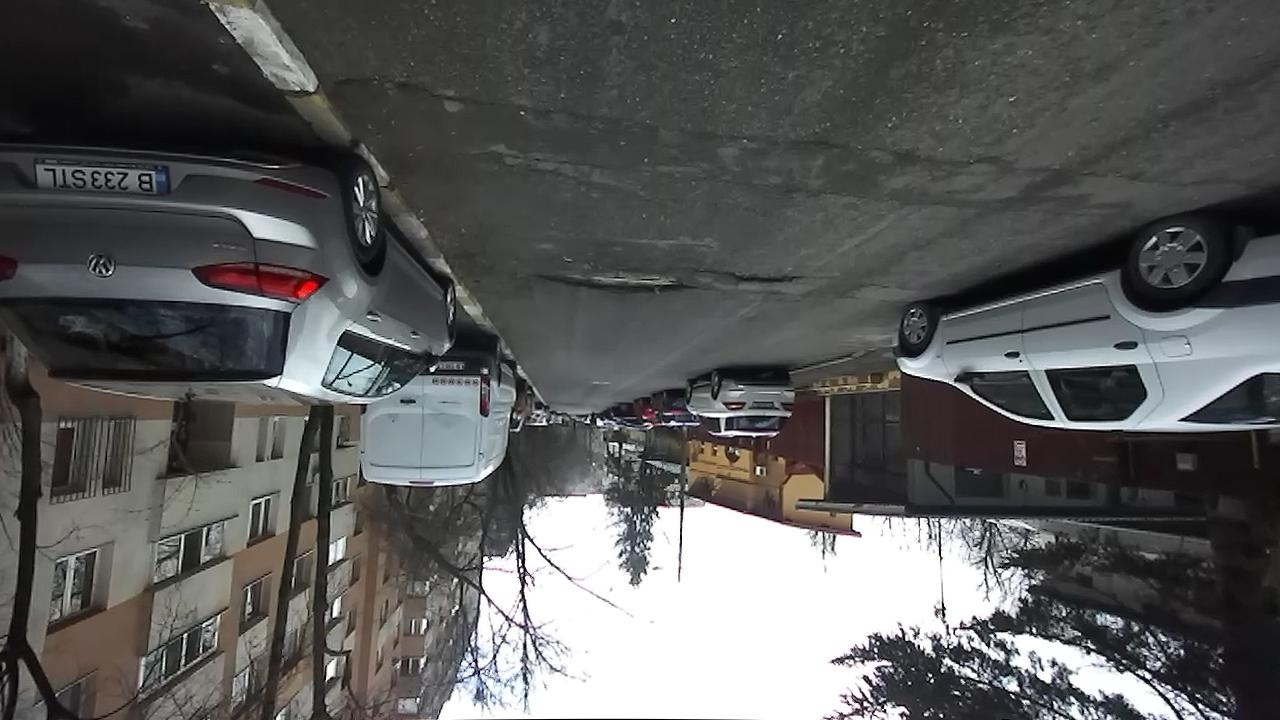pothole: (529, 262, 698, 297), (336, 70, 478, 111), (720, 268, 805, 288)
